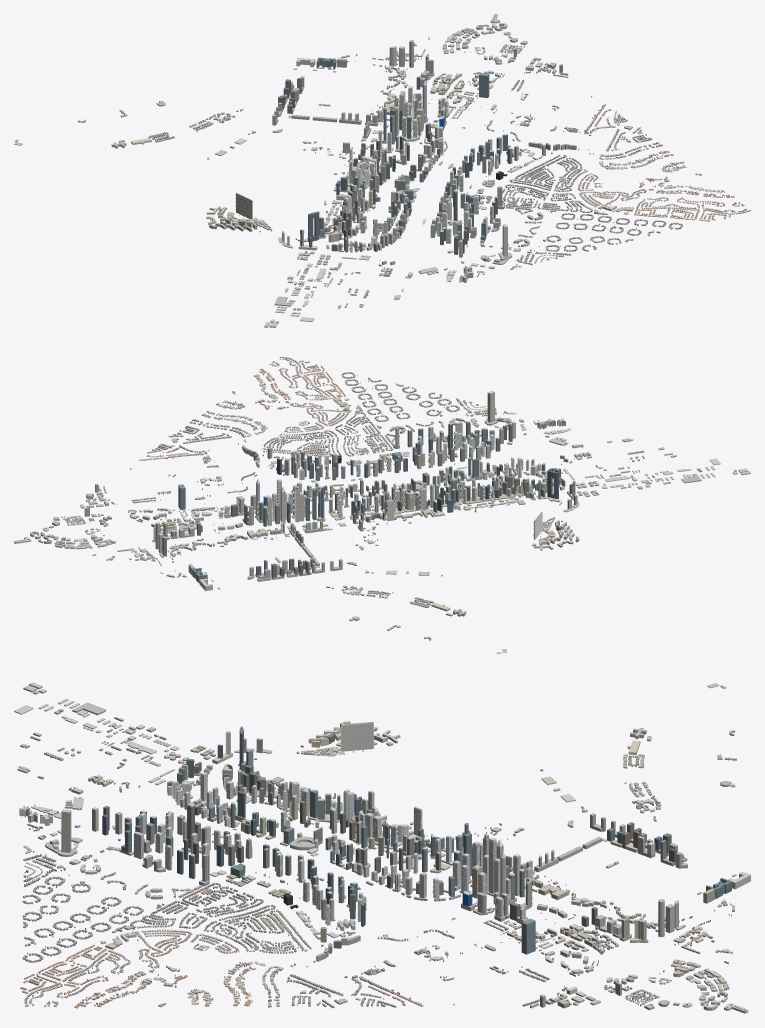
File: city.glb
The picture shows the model from 3 angles, top to bottom: view 1: azimuth 30°, elevation 25°; view 2: azimuth 150°, elevation 25°; view 3: azimuth 270°, elevation 25°; orthographic projection. The views are drawn at different scales.
Parts seen in each view (by area): view 1: bld_walls, bld_roofs, bld_rail, bld_balc, bld_crown; view 2: bld_walls, bld_roofs, bld_rail, bld_balc, bld_crown; view 3: bld_walls, bld_roofs, bld_rail, bld_balc, bld_crown, bld_metal.
Part boxes in pixels (x1,y1,x2,y2): bld_walls: (14, 14, 750, 327); bld_roofs: (14, 14, 750, 326); bld_rail: (235, 89, 518, 252); bld_balc: (236, 88, 518, 251); bld_crown: (236, 87, 517, 236); bld_walls: (14, 357, 750, 653); bld_roofs: (14, 356, 750, 653); bld_rail: (197, 424, 575, 539); bld_balc: (195, 424, 575, 538); bld_crown: (237, 423, 574, 521); bld_walls: (14, 684, 750, 1013); bld_roofs: (14, 682, 750, 1011); bld_rail: (133, 723, 563, 933); bld_balc: (134, 724, 564, 932); bld_crown: (134, 722, 524, 906); bld_metal: (137, 727, 576, 931).
Bounding box in the file's own units: 5741 × 464 × 5421.
